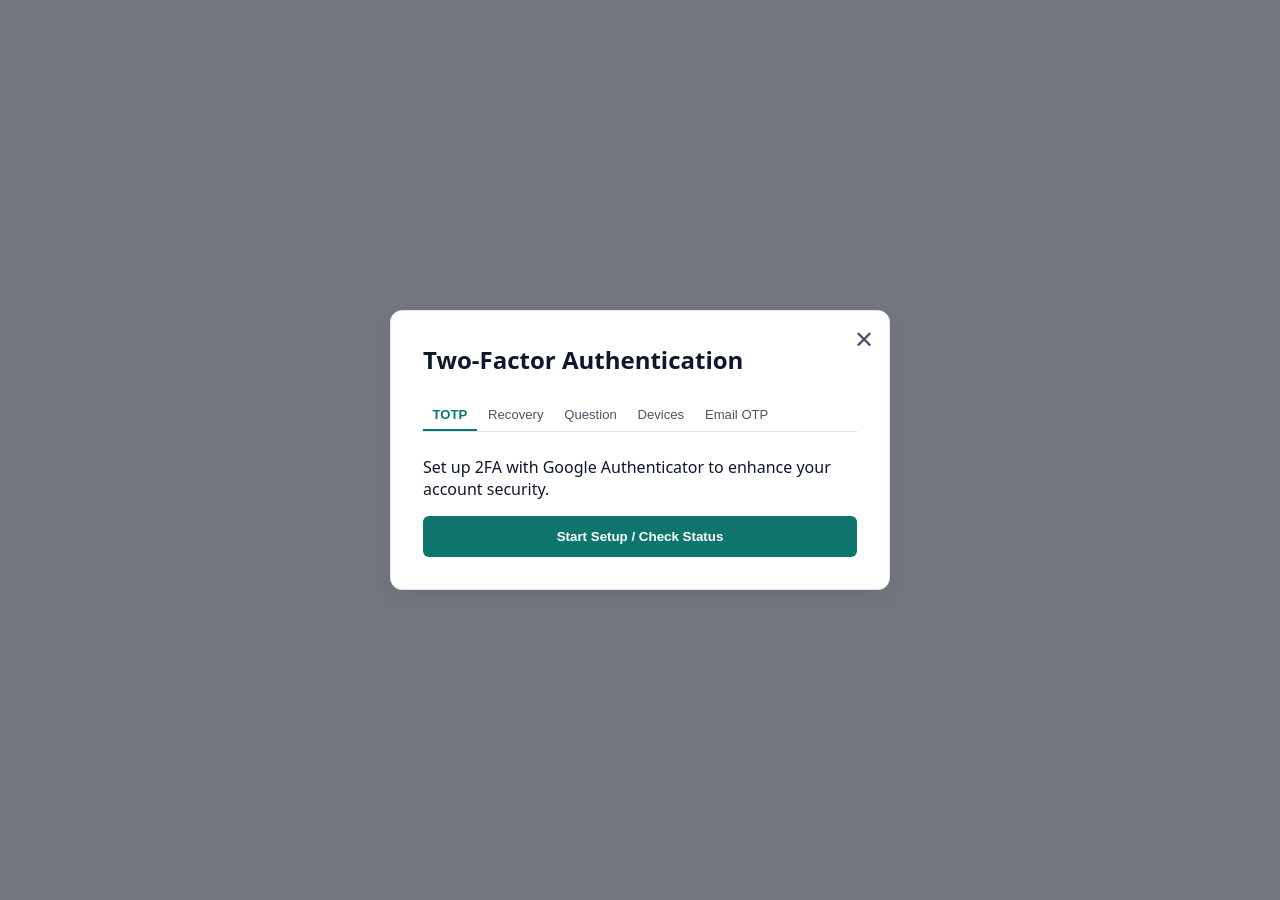
it: TwoFactorModal › TOTP tab › shows already enabled state when 2FA is active
Click the button "Start Setup / Check Status": [640, 537] box left=423, top=516, right=857, bottom=557
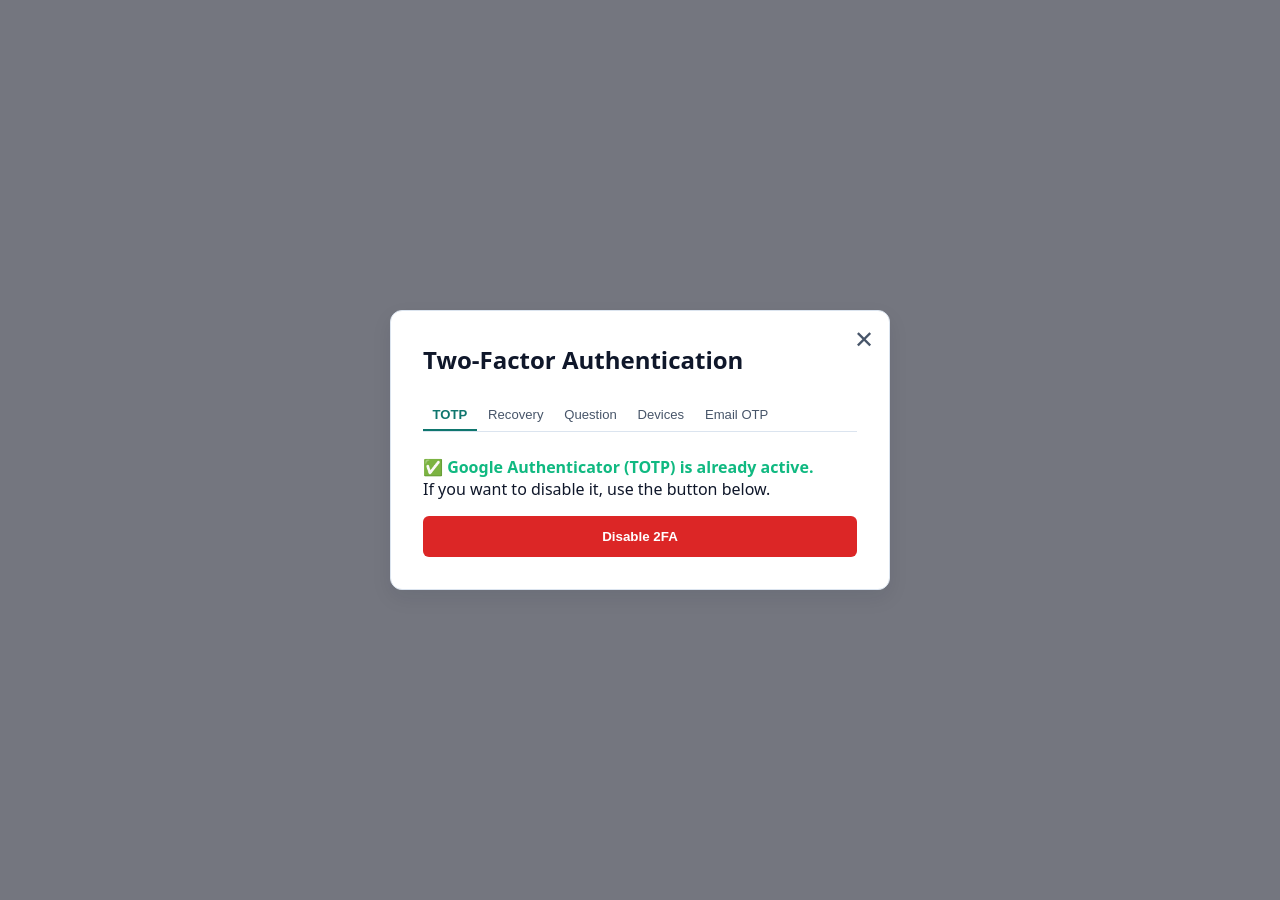
Expected: the text "✅ Google Authenticator (TOTP) is already active." is shown, left=423, top=456, right=857, bottom=478
